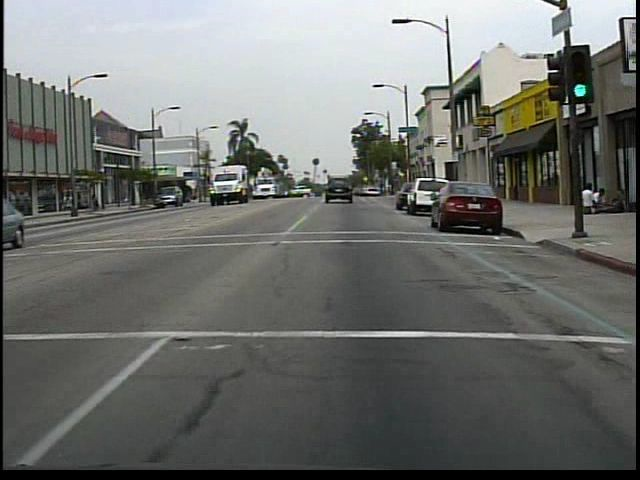person: (575, 180, 595, 217), (90, 191, 102, 213)
